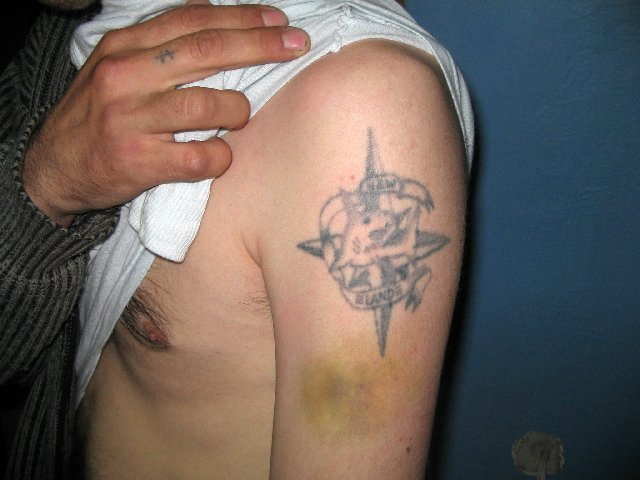tatu9_krest: (153, 53, 184, 64)
